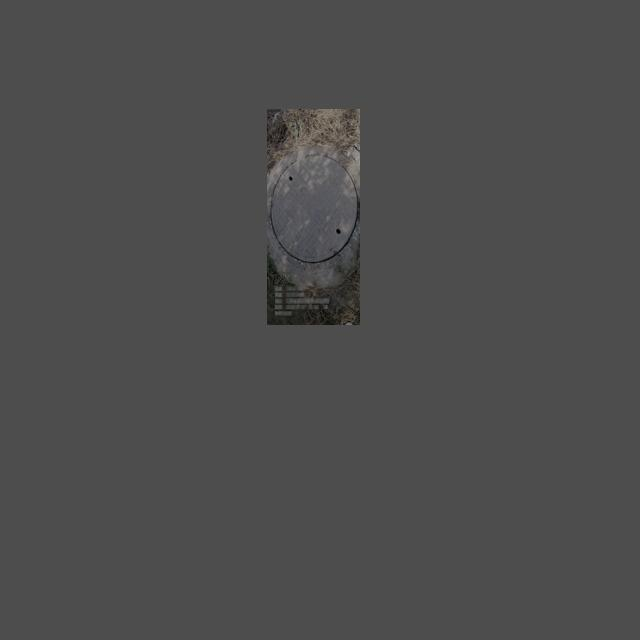good: (267, 147, 360, 270)
